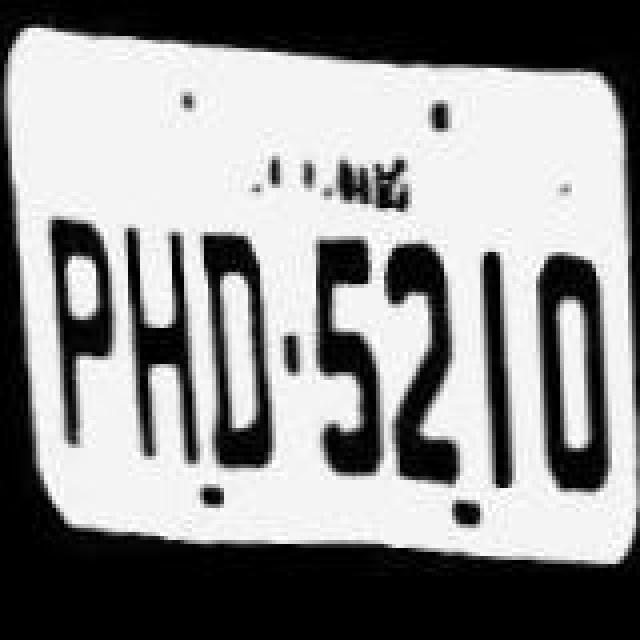1: (458, 248, 522, 500)
2: (370, 234, 458, 494)
5: (296, 220, 388, 484)
D: (192, 216, 280, 480)
H: (114, 212, 206, 464)
O: (520, 246, 612, 506)
P: (38, 188, 130, 468)
